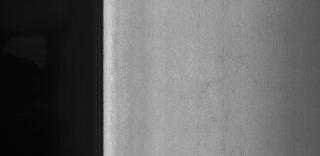silk spot: (195, 29, 262, 149)
